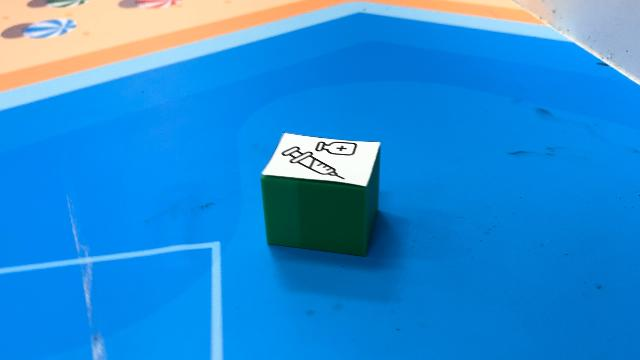syringe: (260, 132, 380, 256)
